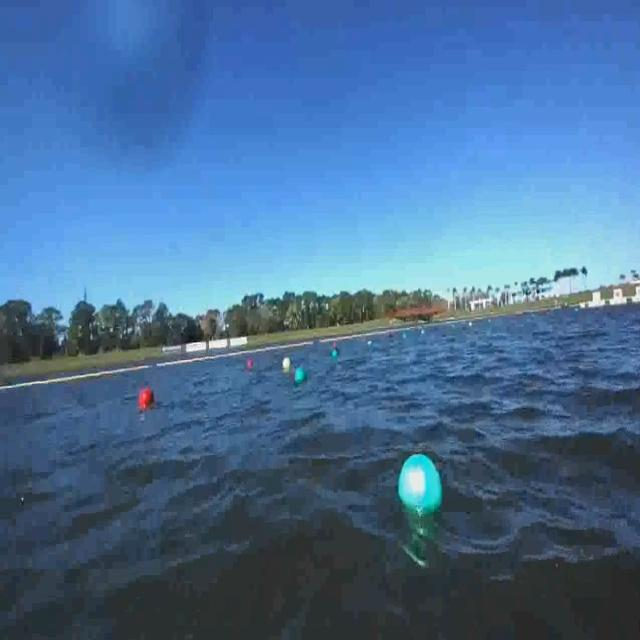green-buoy: (398, 450, 445, 518)
red-buoy: (137, 387, 155, 411)
